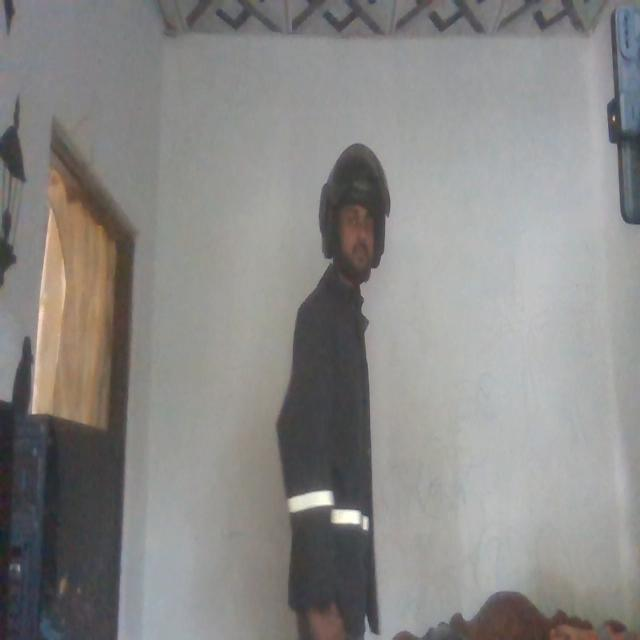Helmet_Wearer: (307, 136, 397, 281)
Jacket_Wearer: (266, 262, 382, 630)
Person: (274, 135, 396, 638)
